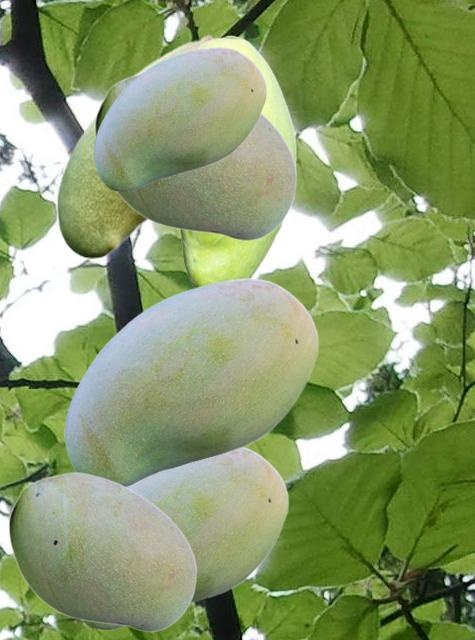green_mango: (64, 278, 318, 488), (80, 447, 288, 628), (56, 34, 219, 257), (94, 73, 296, 240), (8, 471, 196, 631), (178, 35, 295, 287), (93, 47, 266, 190)
